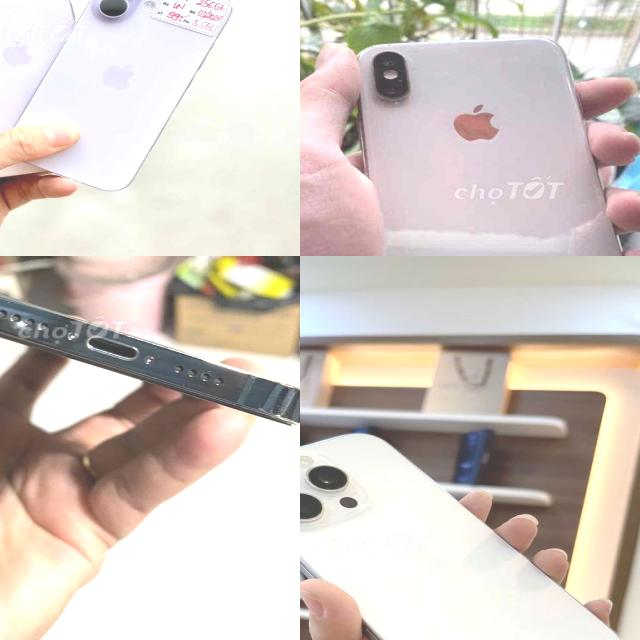gen_12_13: (0, 256, 300, 461)
gen_16: (300, 434, 619, 640)
gen_17: (16, 0, 243, 213)
gen_x_xs: (313, 21, 640, 256)
scratch: (387, 101, 411, 115)
